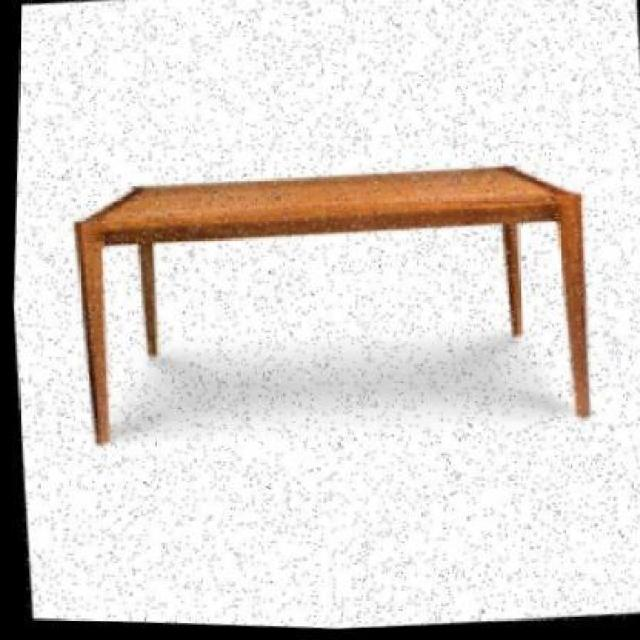tables: (72, 163, 591, 445)
